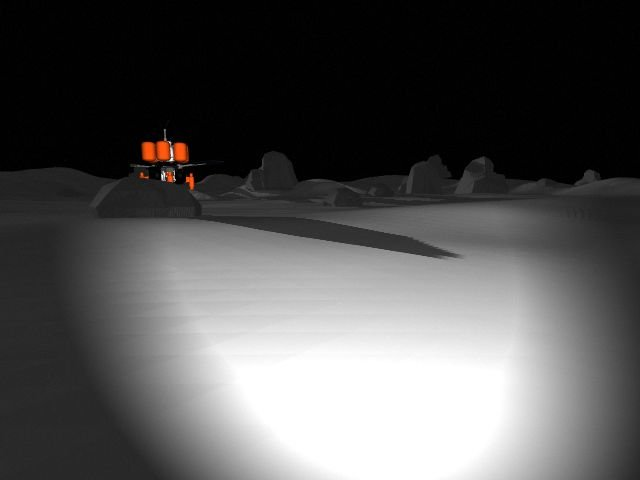homebase: (118, 122, 214, 201)
